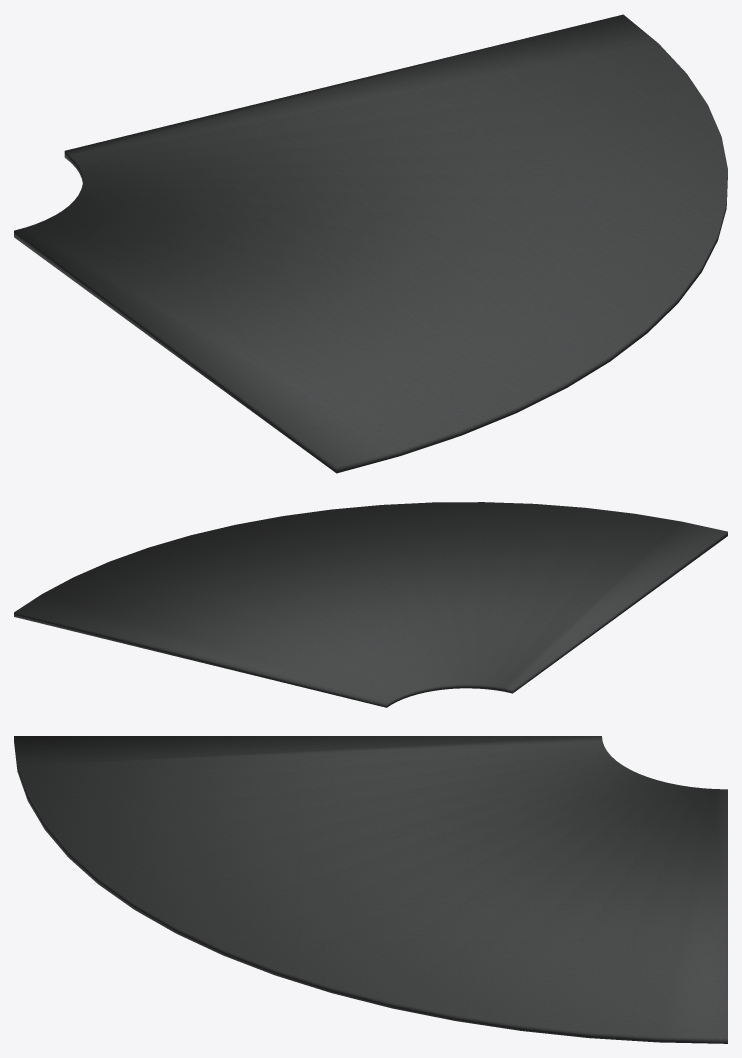
The model's file is Road_Corner_90.fbx.
The picture shows the model from 3 angles, top to bottom: view 1: azimuth 30°, elevation 25°; view 2: azimuth 150°, elevation 25°; view 3: azimuth 270°, elevation 25°; orthographic projection. The views are drawn at different scales.
Parts seen in each view (by area): view 1: Road_Corner_90_Asphalt; view 2: Road_Corner_90_Asphalt; view 3: Road_Corner_90_Asphalt.
Boxes of the visible parts, <box> form: Road_Corner_90_Asphalt: <box>14,14,727,473</box>; Road_Corner_90_Asphalt: <box>14,502,727,707</box>; Road_Corner_90_Asphalt: <box>14,736,727,1043</box>.
Size of the model in its own units: 8.5 by 0.08 by 8.5.
